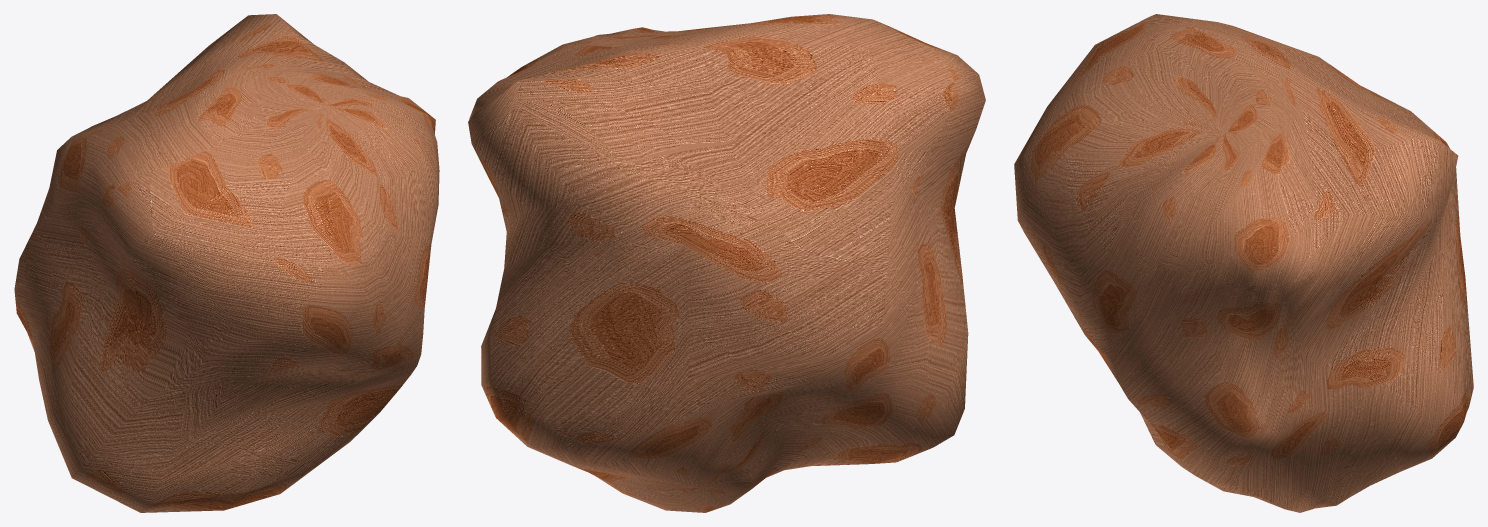
The model's file is meteo_06.obj.
The picture shows the model from 3 angles, left to right: view 1: azimuth 30°, elevation 25°; view 2: azimuth 150°, elevation 25°; view 3: azimuth 270°, elevation 25°; orthographic projection. The views are drawn at different scales.
Parts seen in each view (by area): view 1: pSphere1; view 2: pSphere1; view 3: pSphere1.
Part boxes in pixels (x1,y1,x2,y2): pSphere1: (14,14,439,512); pSphere1: (468,14,985,512); pSphere1: (1014,14,1473,512).
Bounding box in the file's own units: 2.13 × 2.13 × 2.05.
1 material, 1 textured.
